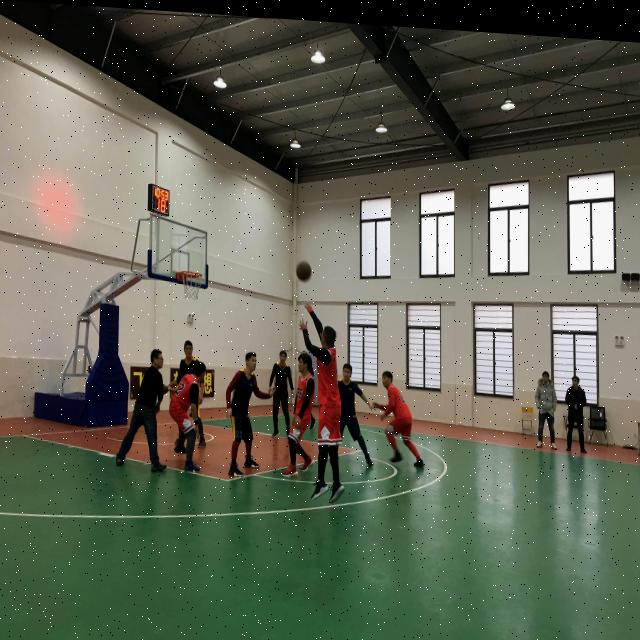basketball: (296, 259, 312, 283)
hoop: (182, 270, 202, 302)
